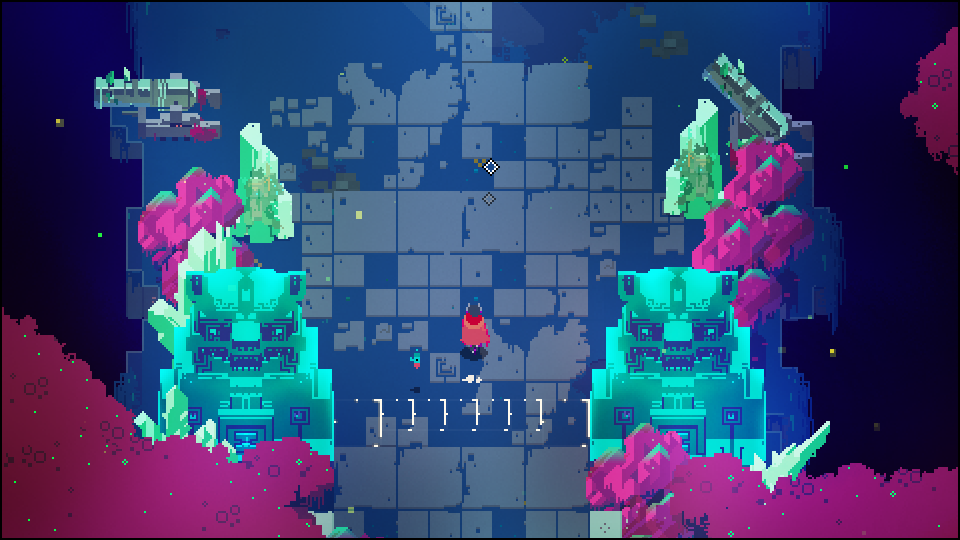player: (456, 297, 492, 357)
